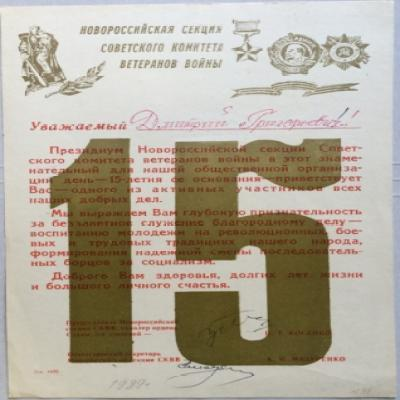document: (9, 5, 394, 396)
